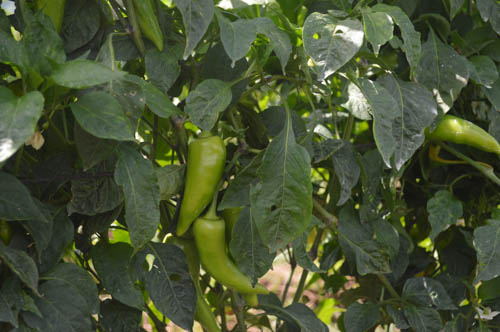ChiliPepper: (191, 217, 254, 304), (174, 136, 225, 243), (430, 117, 497, 159)
